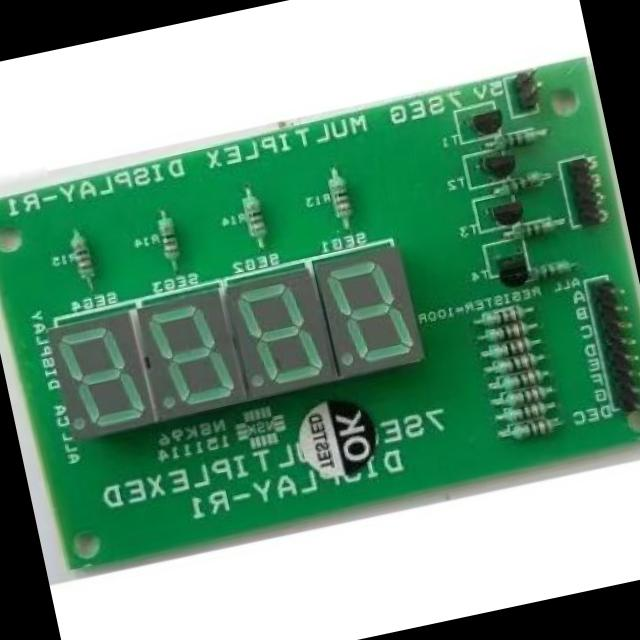connector: (573, 264, 640, 419), (556, 146, 620, 230), (504, 72, 545, 124)
resistor: (296, 158, 360, 249), (490, 208, 574, 246), (60, 229, 103, 296), (234, 189, 275, 257), (487, 166, 556, 200), (148, 210, 187, 270), (484, 122, 552, 154), (530, 248, 585, 284)
